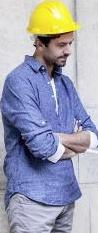hard-hat: (26, 0, 79, 36)
